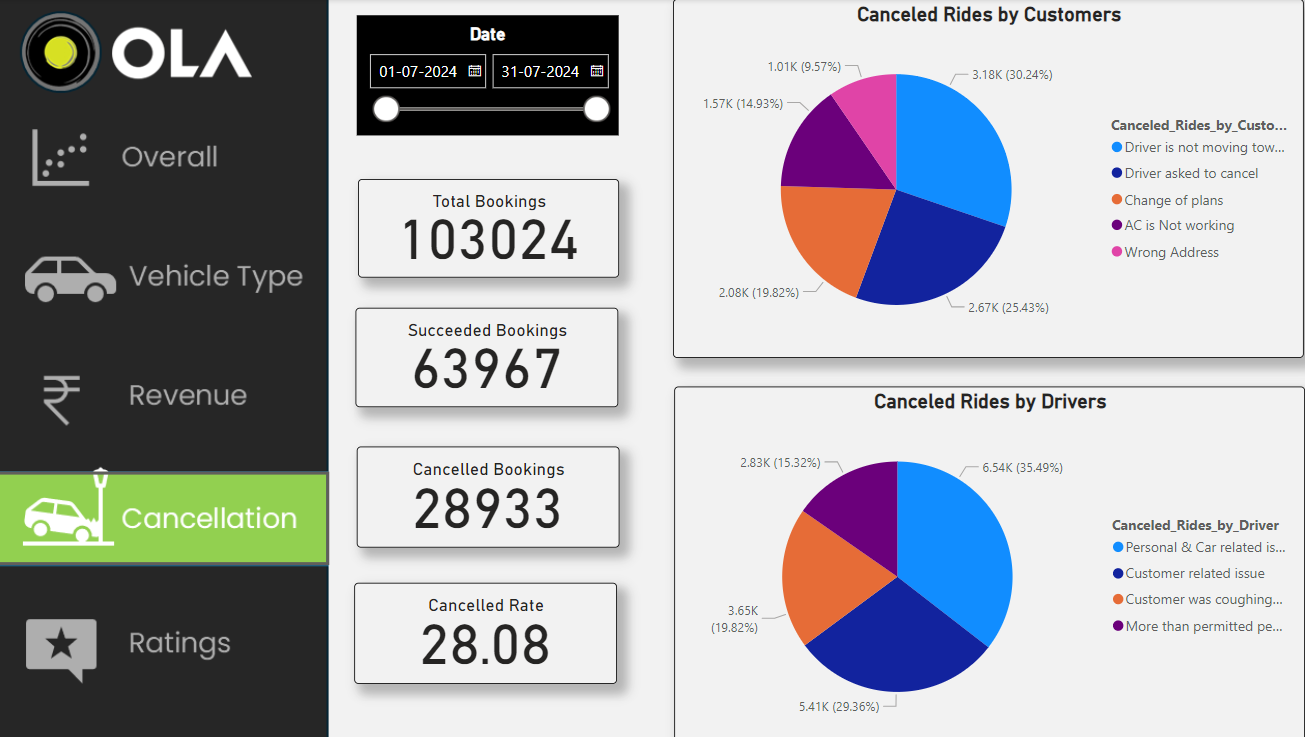

The dashboard page shown, as its layout file describes it:
{"tool":"powerbi","page":{"name":"Cancellation","canvas":[1280,720],"ordinal":3},"visuals":[{"type":"actionButton","box":[0,456,324.5,90.5],"z":0},{"type":"pieChart","title":"Canceled Rides by Customers","fields":{"Category":["July.Canceled_Rides_by_Customer"],"Y":["CountNonNull(July.Canceled_Rides_by_Customer)"]},"box":[656.5,0,608.8,346.3],"z":1000},{"type":"pieChart","title":"Canceled Rides by Drivers","fields":{"Y":["CountNonNull(July.Canceled_Rides_by_Driver)"],"Category":["July.Canceled_Rides_by_Driver"]},"box":[657.1,374,608.7,345.6],"z":2000},{"type":"slicer","title":"Date","fields":{"Values":["July.Date"]},"box":[350.6,16,252.7,115.7],"z":3000},{"type":"card","title":"Total Bookings","fields":{"Values":["CountNonNull(July.Booking_ID)"]},"box":[352,173.5,252,95],"z":4000},{"type":"card","title":"Succeeded Bookings","fields":{"Values":["CountNonNull(July.Booking_ID)"]},"box":[349.5,297.6,253.3,96.2],"z":5000},{"type":"card","title":"Cancelled Bookings","fields":{"Values":["CountNonNull(July.Booking_ID)"]},"box":[350.8,431.8,253.3,97.5],"z":5001},{"type":"card","title":"Cancelled Rate","fields":{"Values":["July.CanceledBookingsPerct"]},"box":[348.2,563.5,253.3,97.5],"z":5002}]}

Visuals, with their boxes on the page's 1280x720 design canvas (x1, y1, x2, y2). These are canvas units, not pixel positions in the 1305x737 screenshot, which may show the page scaled, cropped or inside an application window:
actionButton: <bbox>0, 456, 324, 546</bbox>
"Canceled Rides by Customers" pieChart: <bbox>656, 0, 1265, 346</bbox>
"Canceled Rides by Drivers" pieChart: <bbox>657, 374, 1266, 720</bbox>
"Date" slicer: <bbox>351, 16, 603, 132</bbox>
"Total Bookings" card: <bbox>352, 174, 604, 268</bbox>
"Succeeded Bookings" card: <bbox>350, 298, 603, 394</bbox>
"Cancelled Bookings" card: <bbox>351, 432, 604, 529</bbox>
"Cancelled Rate" card: <bbox>348, 564, 602, 661</bbox>
